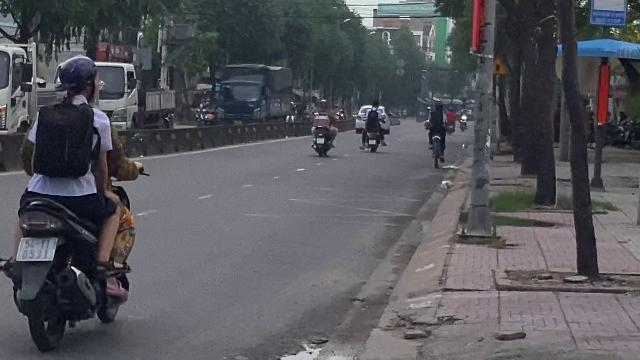helmet: (54, 55, 100, 101)
licenseplate: (17, 236, 55, 260)
motorcyclist: (1, 52, 143, 352)
